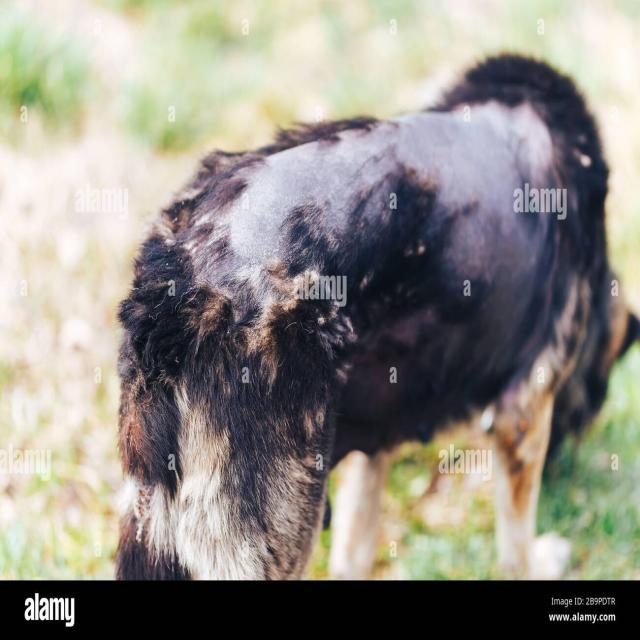mange: (171, 85, 559, 346)
